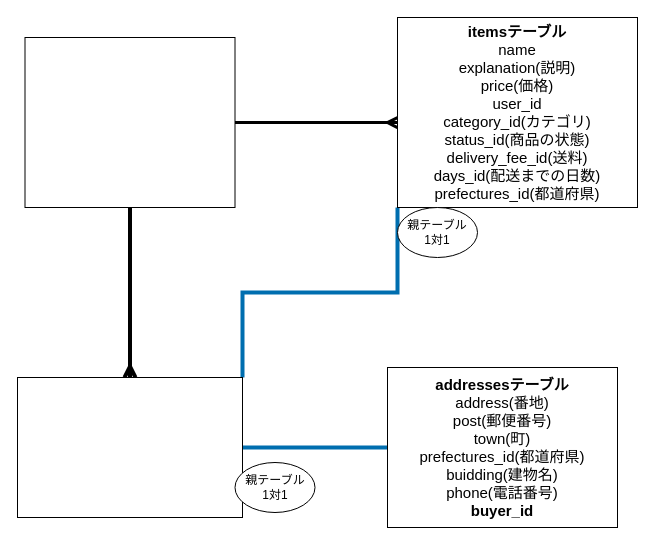
Some shapes in this 655 by 545 pixel diagram are drawn without their labels. Each missing label, with the centre of its shape:
"buyersテーブル user_id items_id" belongs at [129,447].
"usersテーブル last_name first_name last_name_kana first_name_kana birthday name" belongs at [129,122].
